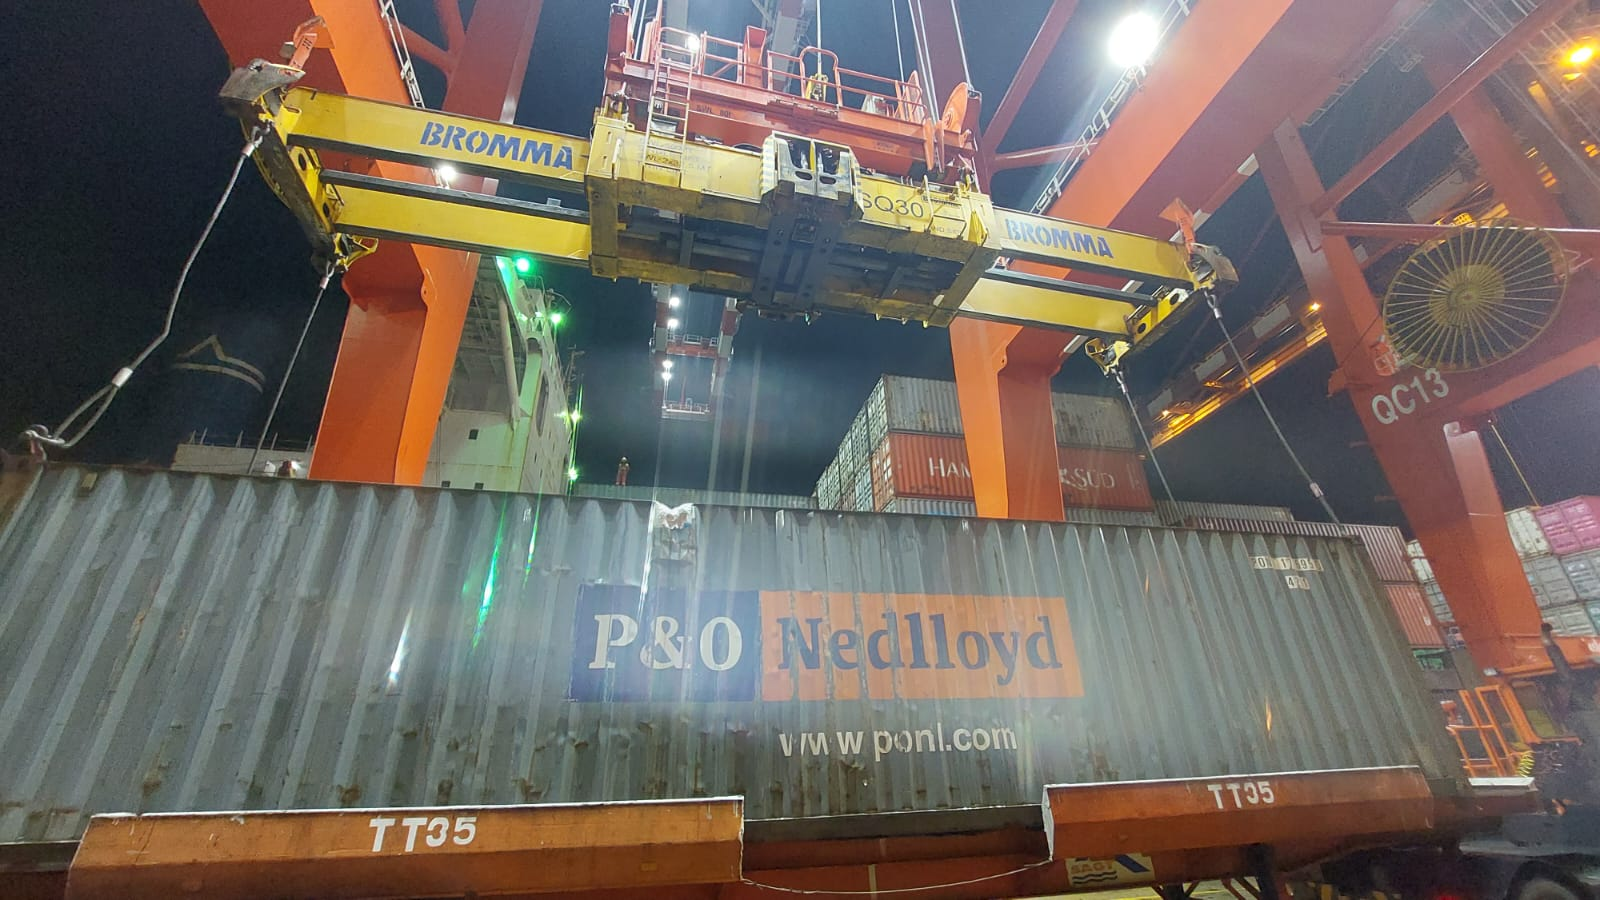bulged: (640, 499, 715, 571)
dented: (408, 716, 705, 760), (748, 757, 940, 811), (281, 766, 557, 801), (129, 767, 212, 803)
